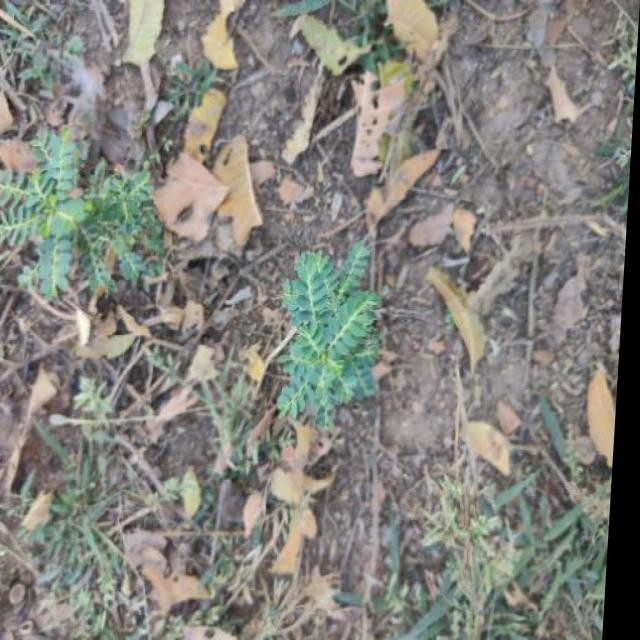weed: (0, 121, 187, 310), (274, 239, 395, 426)
